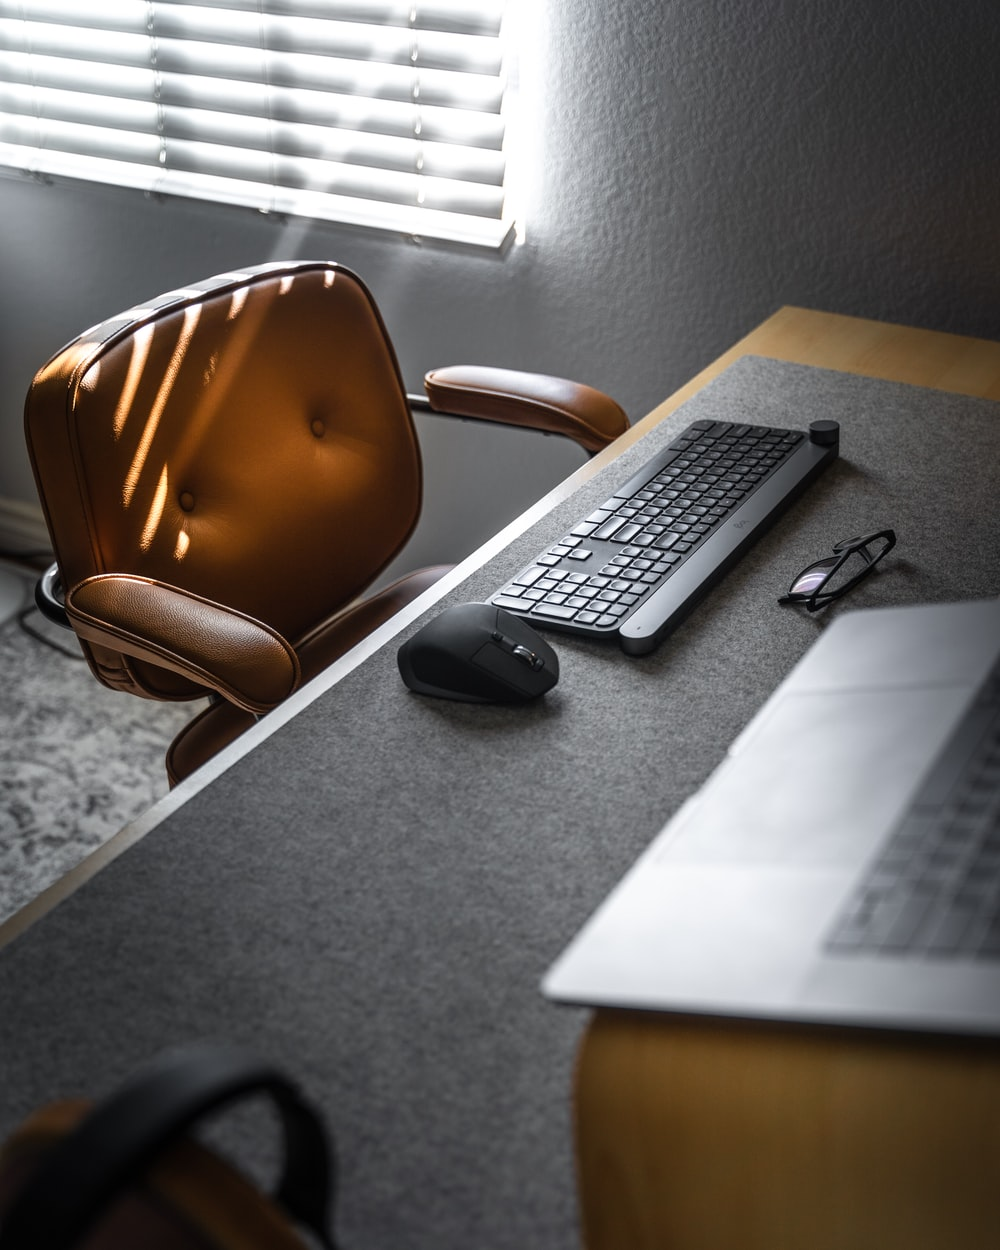keyboard: (482, 374, 848, 661)
mouse: (366, 582, 576, 719)
